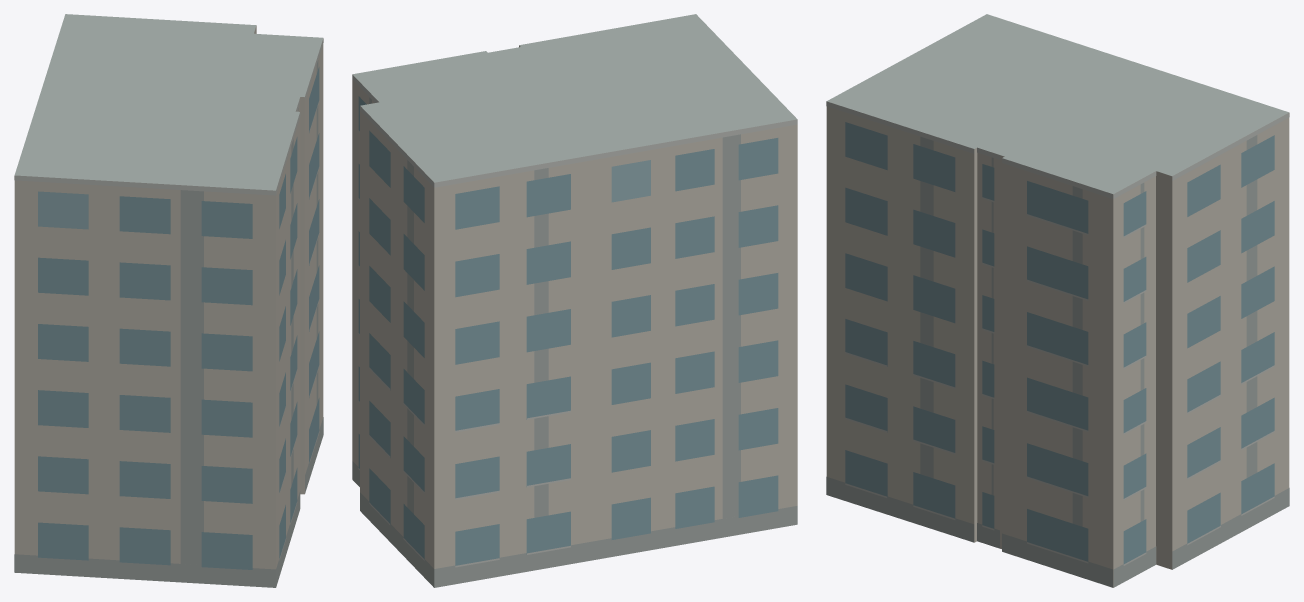
Rendered from survey-upis-32977224.glb.
The picture shows the model from 3 angles, left to right: view 1: azimuth 30°, elevation 25°; view 2: azimuth 150°, elevation 25°; view 3: azimuth 270°, elevation 25°; orthographic projection. The views are drawn at different scales.
Parts seen in each view (by area): view 1: survey-upis-32977224.tmp; view 2: survey-upis-32977224.tmp; view 3: survey-upis-32977224.tmp.
Part boxes in pixels (x1,y1,x2,y2): survey-upis-32977224.tmp: [14, 14, 323, 587]; survey-upis-32977224.tmp: [352, 14, 797, 587]; survey-upis-32977224.tmp: [826, 14, 1289, 587].
Bounding box in the file's own units: 19.16 × 19.5 × 20.79.
